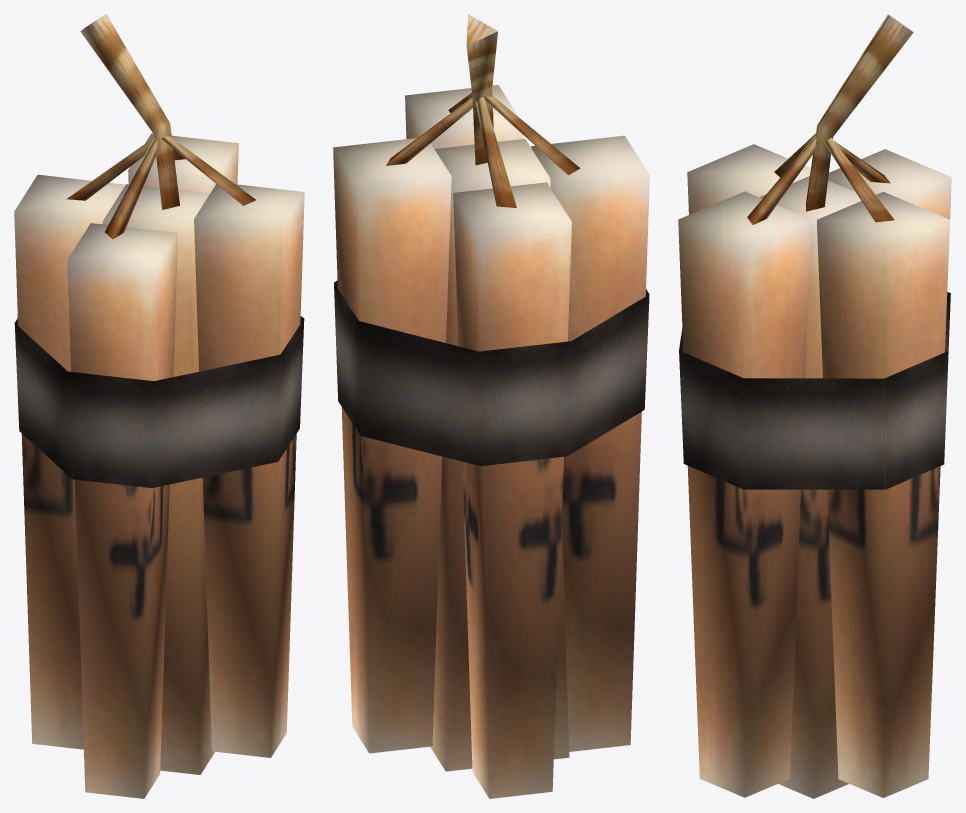
Rendered from gunshopdynamitebundle.obj.
3 views of the same model, side by side, from view 1: azimuth 30°, elevation 25°; view 2: azimuth 150°, elevation 25°; view 3: azimuth 270°, elevation 25° (orthographic). The views are drawn at different scales.
Parts seen in each view (by area): view 1: gunshopdynamitebundle; view 2: gunshopdynamitebundle; view 3: gunshopdynamitebundle.
Boxes of the visible parts, box(x1,y1,x2,y2) form: gunshopdynamitebundle: box(14, 14, 304, 798); gunshopdynamitebundle: box(333, 14, 649, 798); gunshopdynamitebundle: box(678, 14, 951, 798).
Size of the model in its own units: 0.2595 by 0.7528 by 0.2525.
Materials: 1 (1 with a texture image).
